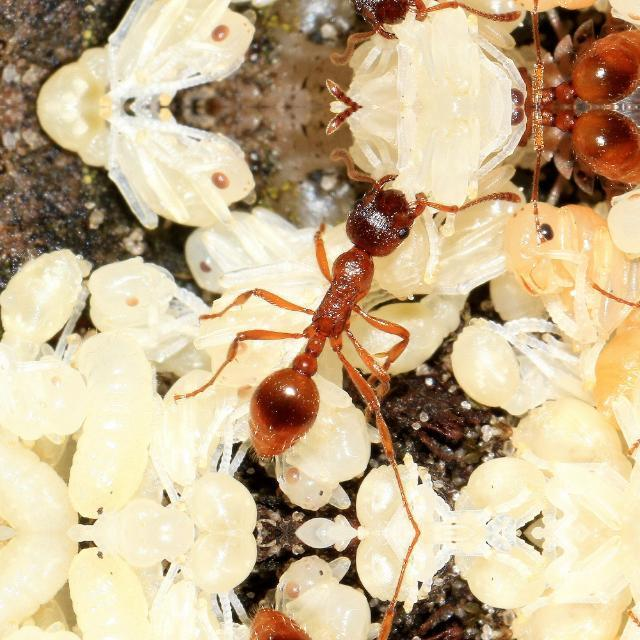Myrmica: (151, 156, 461, 474), (431, 106, 639, 242), (431, 0, 639, 106)
